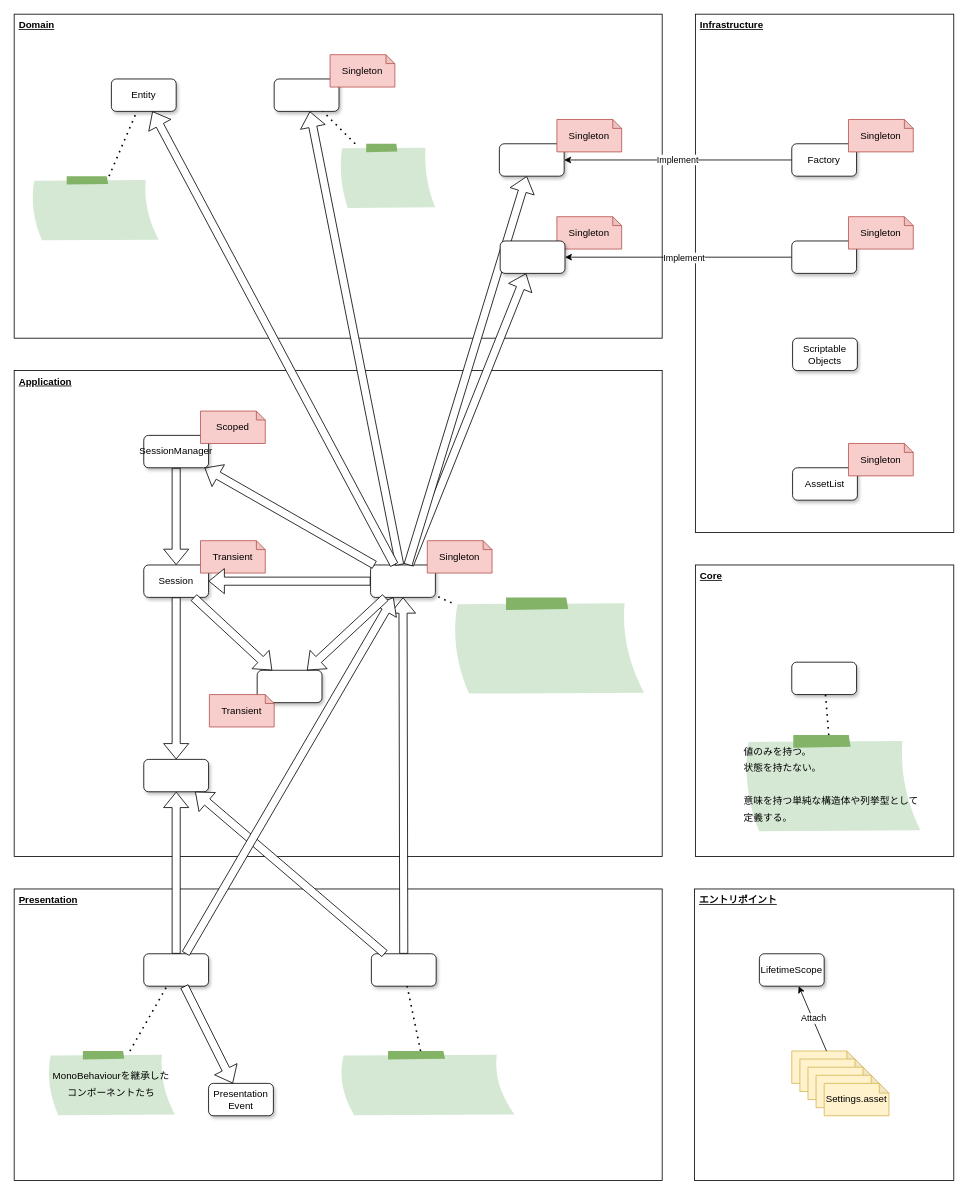
This 968x1195 diagram has some shape labels left out. Each missing label, with the centre of its shape:
"Application Event" belongs at (x=176, y=776).
"Component" belongs at (x=176, y=971).
"Componentの中でも特にUI部品としてヒエラルキーに配置されるもの" belongs at (x=426, y=1083).
"Function" belongs at (x=307, y=96).
"IFactory" belongs at (x=532, y=161).
"IRepository" belongs at (x=533, y=258).
"Repository" belongs at (x=824, y=258).
"SessionState" belongs at (x=290, y=687).
"UIView" belongs at (x=404, y=971).
"UseCase" belongs at (x=403, y=582).
"ValueObject" belongs at (x=824, y=679).
"一意IDで識別される。 状態更新ロジックを含む。" belongs at (x=95, y=208).
"単発の処理。関数。" belongs at (x=387, y=176).
"状態を持たない単発の操作。 状態はSession（及びSessionState）がEntityのインスタンスという形で保持する。" belongs at (x=548, y=646).
